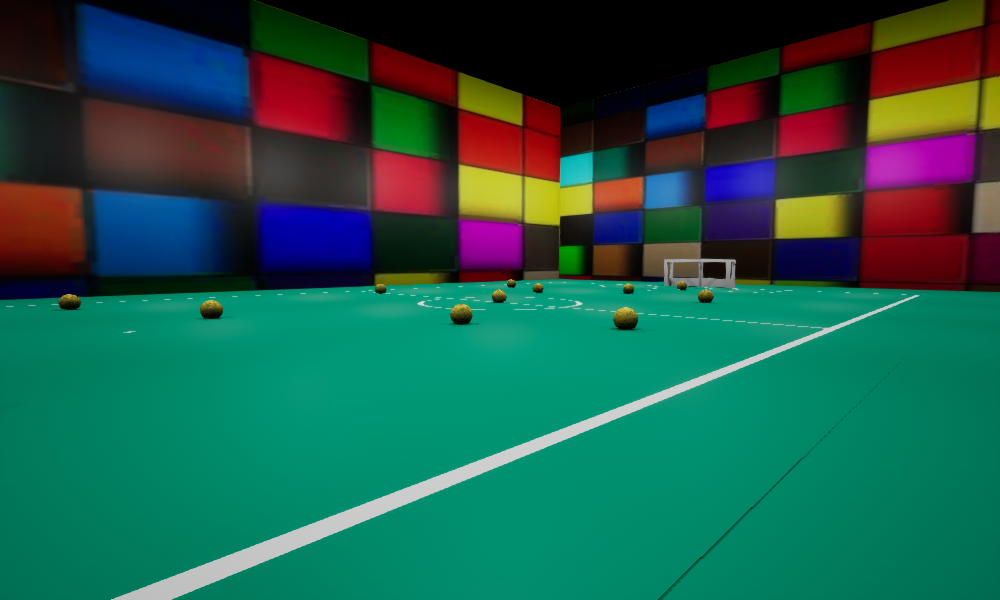b: (613, 307, 637, 329), (450, 304, 472, 323), (200, 300, 222, 318), (58, 294, 80, 309), (698, 289, 713, 302), (492, 289, 506, 302), (623, 283, 633, 293), (375, 284, 386, 293), (532, 283, 543, 292), (677, 281, 686, 289), (507, 279, 515, 287)
g: (664, 259, 735, 287)
